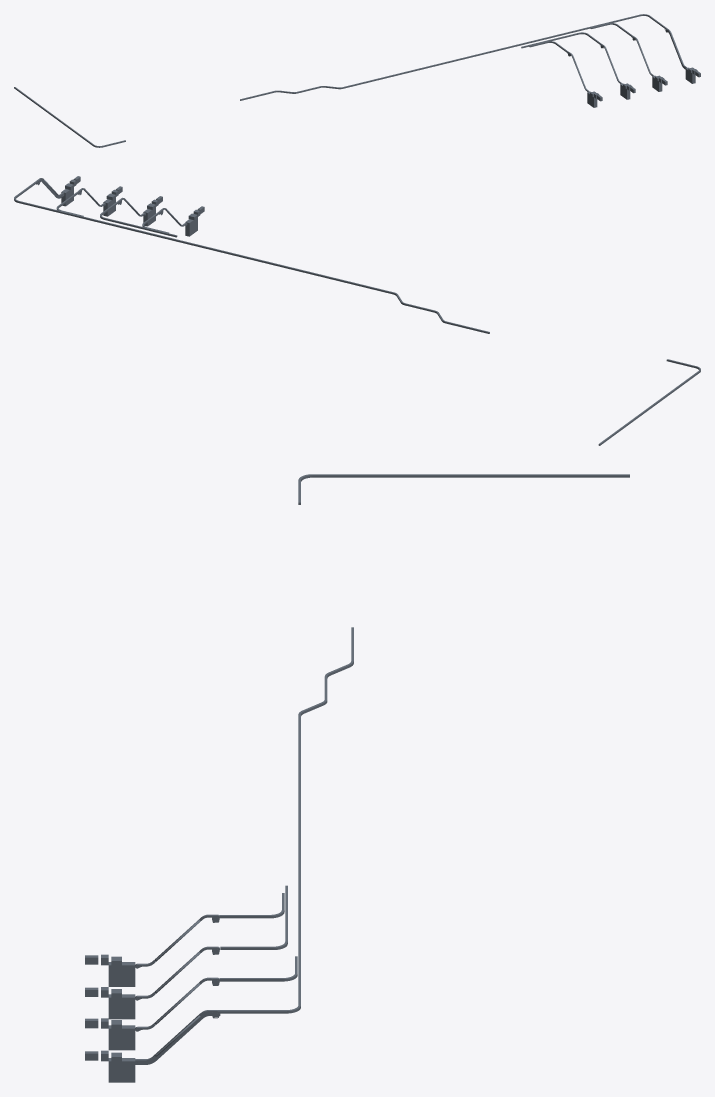
The model's file is Hayat Kimya.glb.
The picture shows the model from 3 angles, top to bottom: view 1: azimuth 30°, elevation 25°; view 2: azimuth 150°, elevation 25°; view 3: azimuth 270°, elevation 25°; orthographic projection. The views are drawn at different scales.
Visible parts, largest first — view 1: Conveyor_STRAIGHT.001, Conveyor_L_TYPE.004; view 2: Conveyor_STRAIGHT.001, Conveyor_L_TYPE.004; view 3: Conveyor_L_TYPE.004.
Part boxes in pixels (bbox=[...]): Conveyor_STRAIGHT.001: bbox=[354, 28, 583, 85]; Conveyor_L_TYPE.004: bbox=[14, 87, 125, 147]; Conveyor_STRAIGHT.001: bbox=[90, 218, 379, 290]; Conveyor_L_TYPE.004: bbox=[598, 359, 700, 445]; Conveyor_L_TYPE.004: bbox=[298, 474, 629, 504].
Size of what is drawn, in the model's own units: 48.25 by 2.95 by 20.63.
